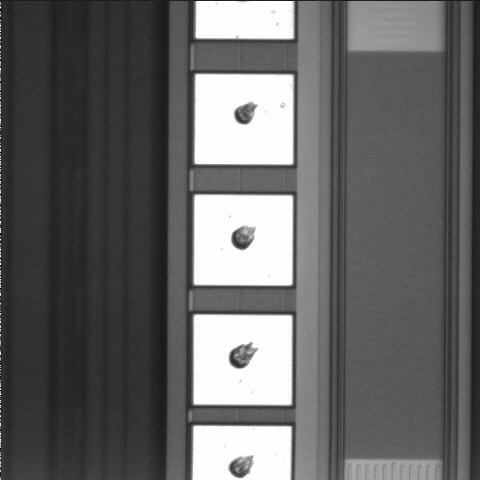pad: (194, 195, 293, 285), (195, 74, 293, 164), (194, 315, 292, 405)
